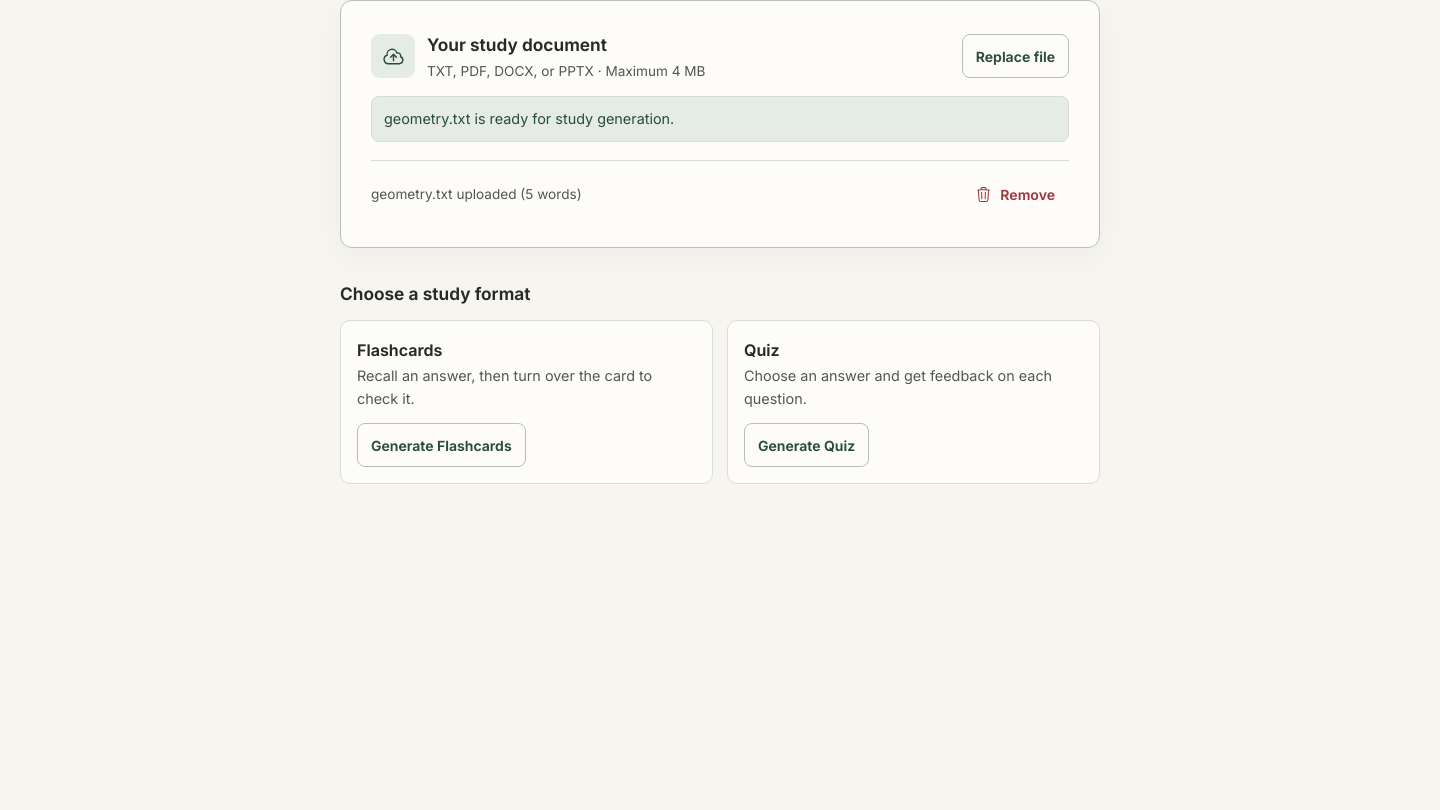
announces application limits using Retry-After when available
The image size is (1440, 810).
Earlier steps of the test are not shown.
Expected: the text "geometry.txt uploaded (5 words)" is shown, [371,184,582,206]
Step 1. Click the button "Generate Quiz" → (807, 445), box [744,423,869,467]
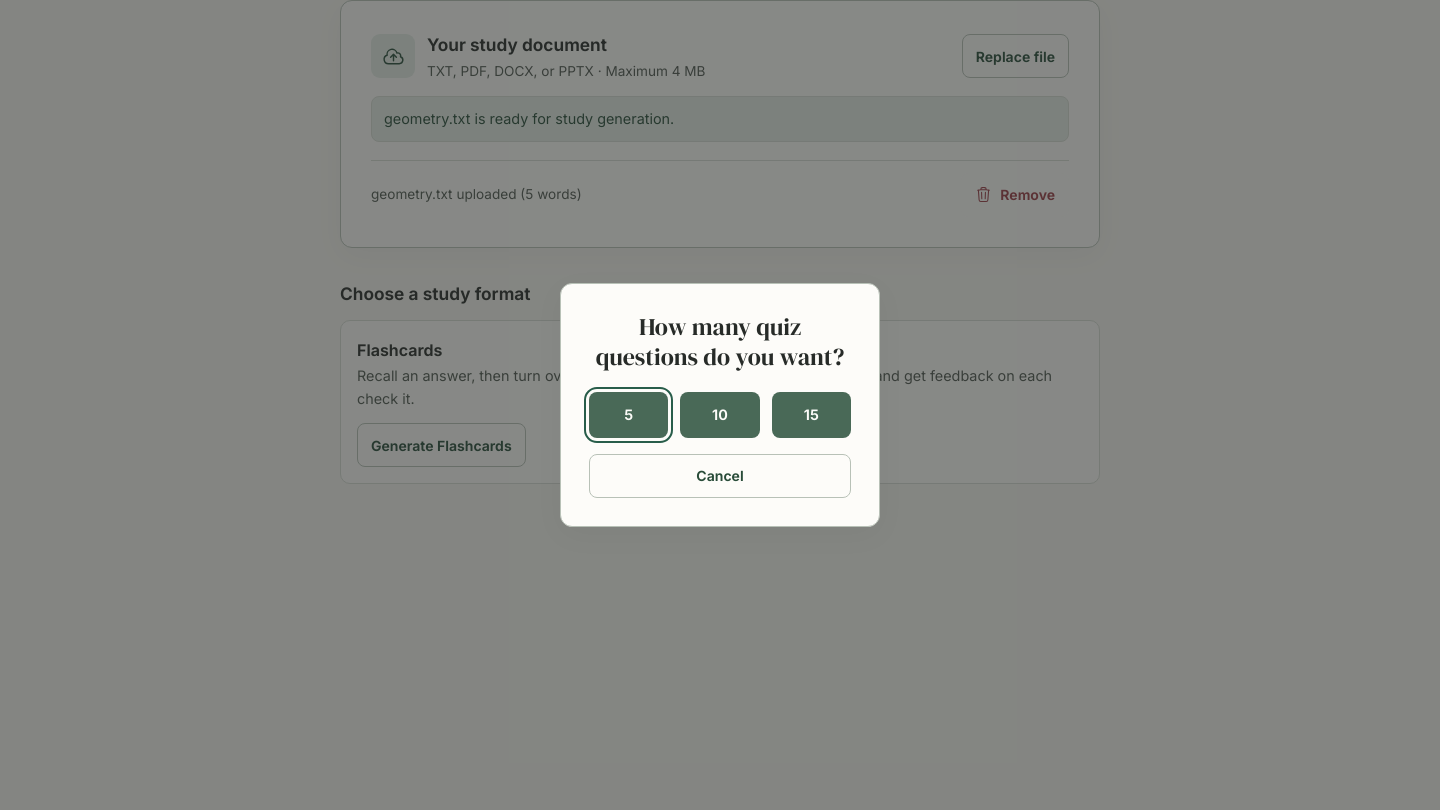
Step 2. Click the button "5" → (629, 415), box [589,392,668,438]
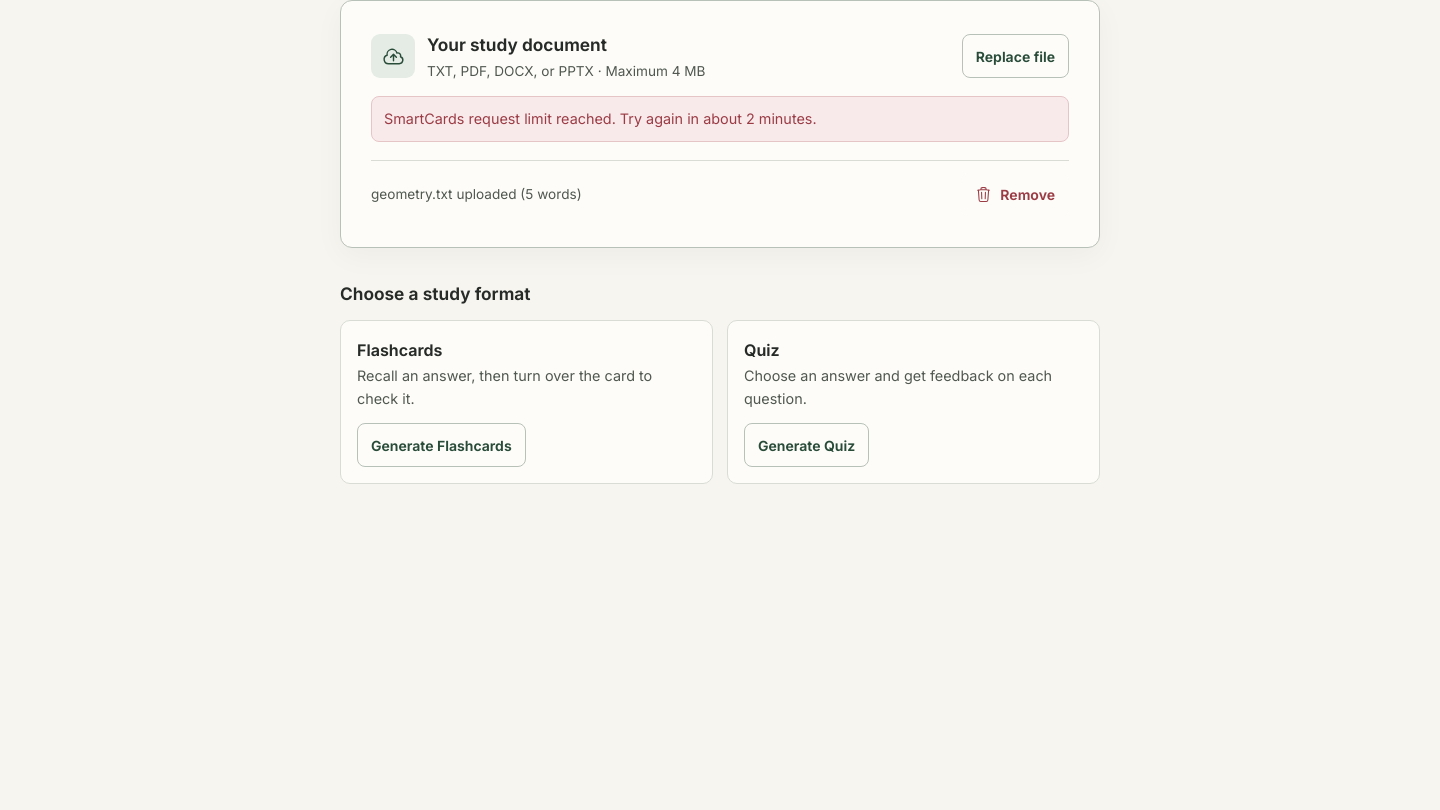
Now the message reads "SmartCards request limit reached. Try again in about 2 minutes.", box [384,110,817,127]
